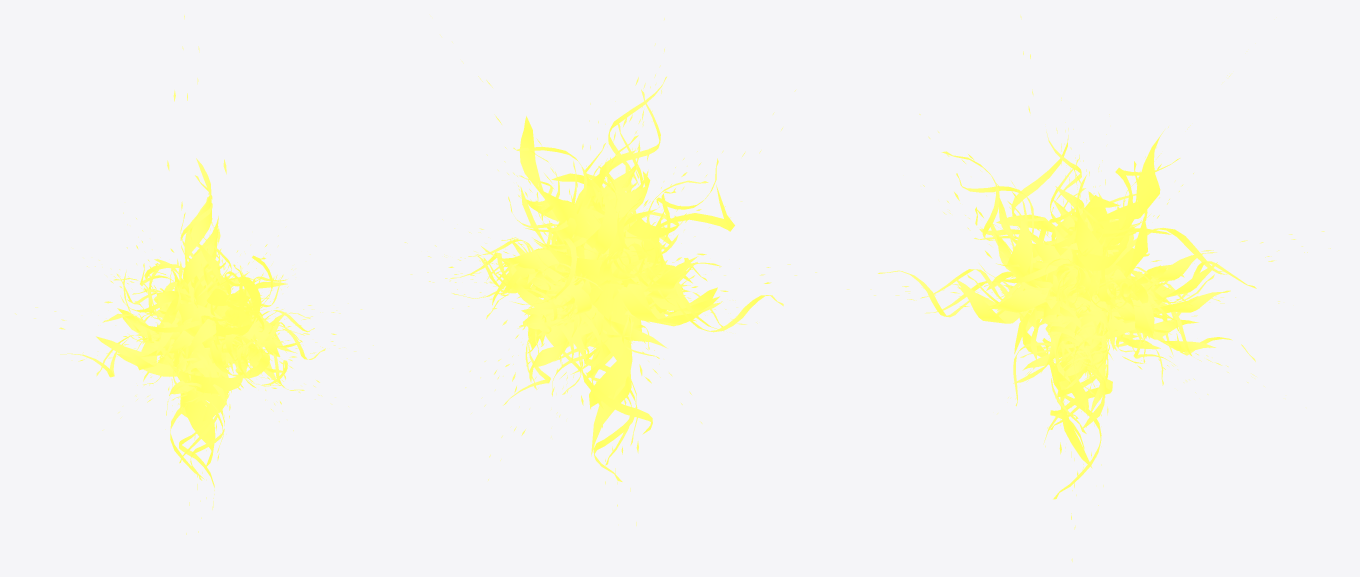
File: Banaspati.fbx
The picture shows the model from 3 angles, left to right: view 1: azimuth 30°, elevation 25°; view 2: azimuth 150°, elevation 25°; view 3: azimuth 270°, elevation 25°; orthographic projection. The views are drawn at different scales.
Parts seen in each view (by area): view 1: Cylinder.169, Cylinder.123, Cylinder.127, Cylinder.053, Cylinder.021, Cylinder.045, Cylinder.173, Cylinder.014, Cylinder.011, Cylinder.042, Cylinder.009, Cylinder.051 (+8 smaller); view 2: Cylinder.009, Cylinder.045, Cylinder.011, Cylinder.123, Cylinder.127, Cylinder.051, Cylinder.014, Cylinder.169, Cylinder.153, Cylinder.173, Cylinder.122, Cylinder.109 (+10 smaller); view 3: Cylinder.053, Cylinder.021, Cylinder.109, Cylinder.127, Cylinder.169, Cylinder.125, Cylinder.123, Cylinder.011, Cylinder.051, Cylinder.122, Cylinder.173, Cylinder.100 (+11 smaller).
Boxes of the visible parts, x1,y1,x2,y2 form: Cylinder.169: (123,270,242,393); Cylinder.123: (177,175,223,362); Cylinder.127: (167,15,226,283); Cylinder.053: (213,255,277,367); Cylinder.021: (210,339,287,388); Cylinder.045: (60,331,174,377); Cylinder.173: (140,263,201,336); Cylinder.014: (184,400,215,466); Cylinder.011: (179,371,219,509); Cylinder.042: (116,318,268,376); Cylinder.009: (170,285,223,534); Cylinder.051: (203,261,272,327); Cylinder.009: (568,249,652,525); Cylinder.045: (554,276,783,332); Cylinder.011: (584,253,642,481); Cylinder.123: (513,146,625,255); Cylinder.127: (440,35,606,230); Cylinder.051: (599,89,660,238); Cylinder.014: (591,317,631,456); Cylinder.169: (647,90,795,313); Cylinder.153: (457,220,643,304); Cylinder.173: (627,158,718,257); Cylinder.122: (520,186,618,281); Cylinder.109: (503,285,574,405); Cylinder.053: (941,151,1071,348); Cylinder.021: (878,270,1027,323); Cylinder.109: (1129,292,1255,365); Cylinder.127: (1091,75,1230,223); Cylinder.169: (1011,15,1075,361); Cylinder.125: (1072,176,1150,270); Cylinder.123: (1068,158,1180,257); Cylinder.011: (1053,352,1106,499); Cylinder.051: (956,173,1114,310); Cylinder.122: (1014,216,1147,354); Cylinder.173: (1046,131,1084,244); Cylinder.100: (923,185,1146,339).
Bounding box in the file's own units: 370 × 491 × 377.
